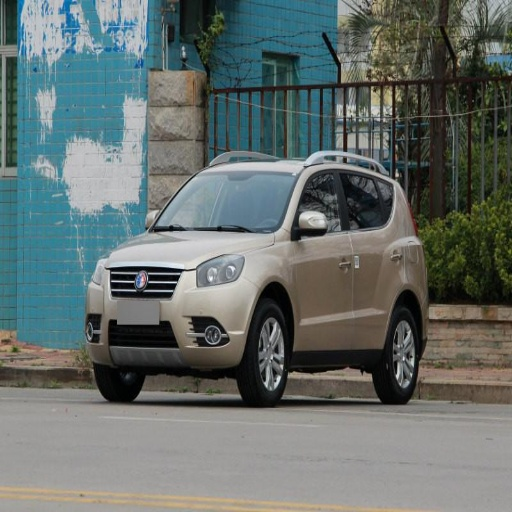front_bumper: (87, 264, 258, 368)
front_glass: (151, 167, 297, 232)
front_left_door: (290, 166, 352, 349)
